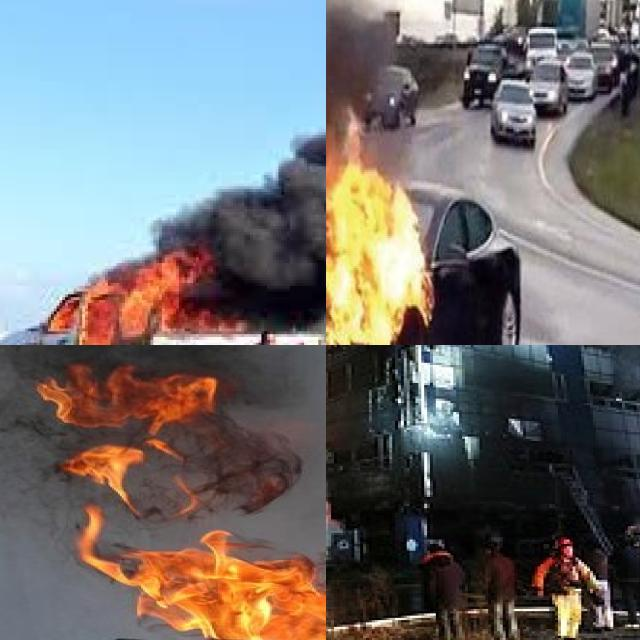fire: (45, 363, 326, 640), (326, 77, 439, 345), (42, 257, 258, 345)
smoke: (156, 0, 326, 328), (0, 345, 298, 508)
